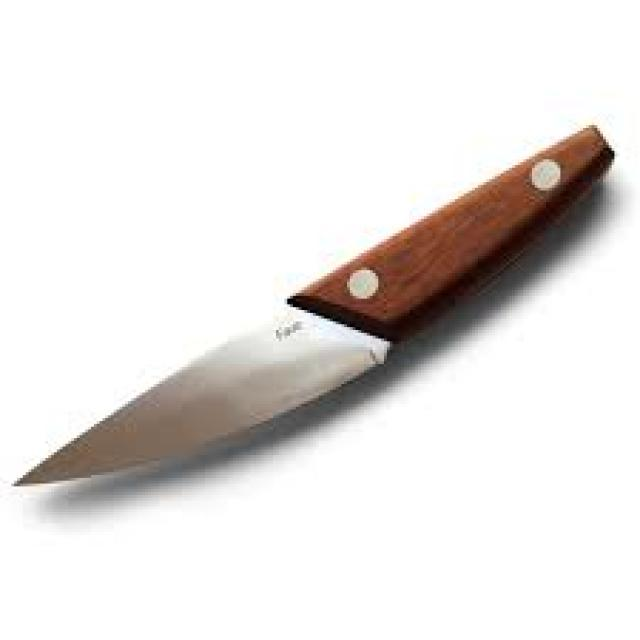knife: (1, 124, 627, 486)
